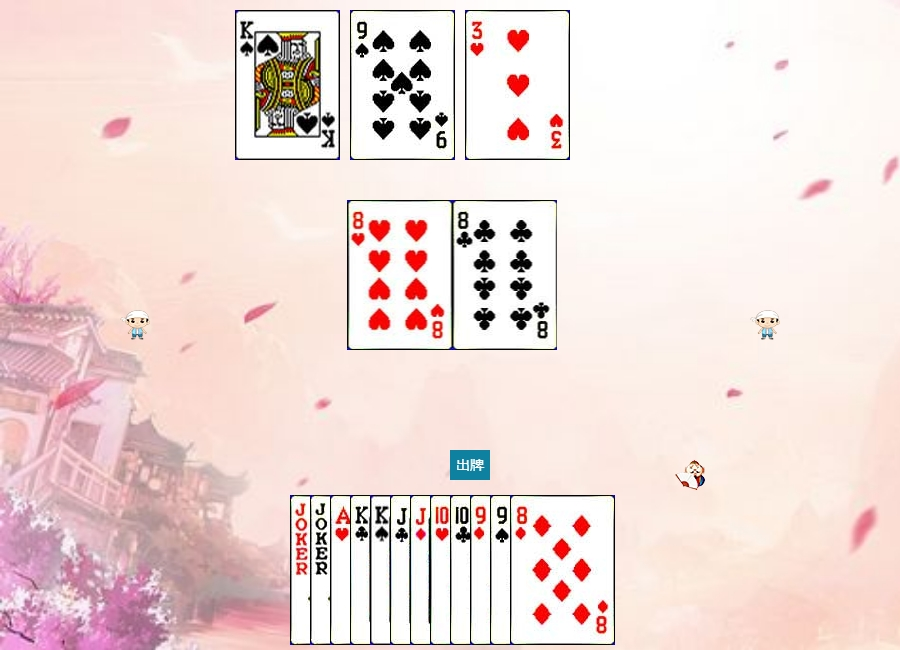10~2: (450, 495, 555, 645)
10~3: (430, 495, 535, 645)
11~1: (410, 495, 515, 645)
11~2: (390, 495, 495, 645)
13~2: (350, 495, 455, 645)
13~4: (235, 10, 340, 160), (370, 495, 475, 645)
14~3: (330, 495, 435, 645)
17~3: (310, 495, 415, 645)
18~4: (290, 495, 395, 645)
3~3: (465, 10, 570, 160)
8~1: (510, 495, 615, 645)
8~2: (453, 200, 558, 350)
8~3: (348, 200, 453, 350)
9~1: (470, 495, 575, 645)
9~4: (350, 10, 455, 160), (490, 495, 595, 645)
